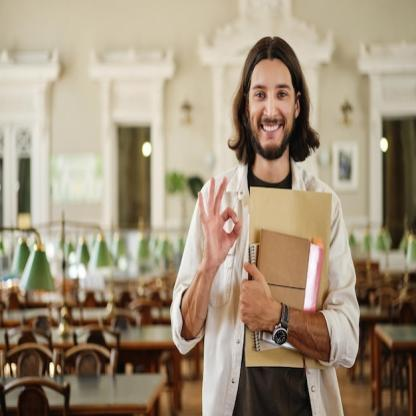ok: (196, 174, 244, 268)
